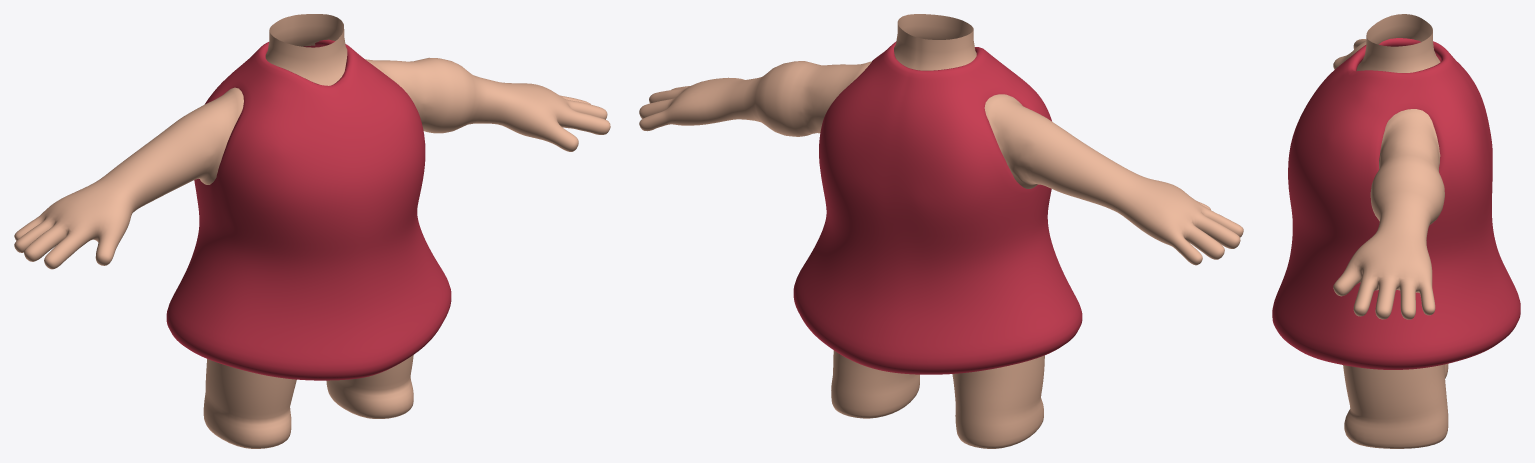
Rendered from muscleModel1.glb.
The picture shows the model from 3 angles, left to right: view 1: azimuth 30°, elevation 25°; view 2: azimuth 150°, elevation 25°; view 3: azimuth 270°, elevation 25°; orthographic projection. The views are drawn at different scales.
Visible parts, largest first — view 1: Top.003; view 2: Top.003; view 3: Top.003.
Boxes of the visible parts, x1=… form: Top.003: x1=14, y1=14, x2=610, y2=448; Top.003: x1=639, y1=14, x2=1243, y2=448; Top.003: x1=1272, y1=14, x2=1520, y2=448.
Bounding box in the file's own units: 2.01 × 1.27 × 0.7619.
